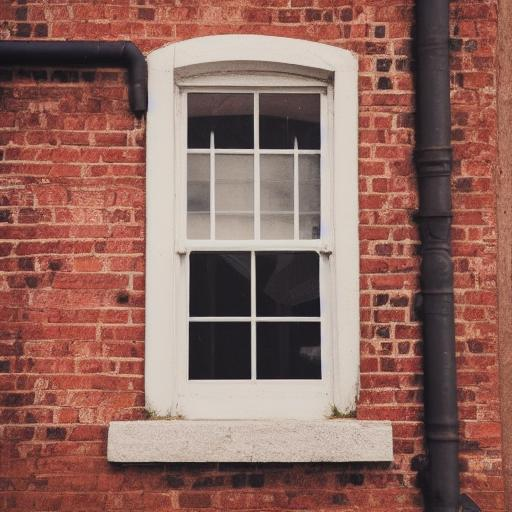Window: (108, 27, 396, 466)
